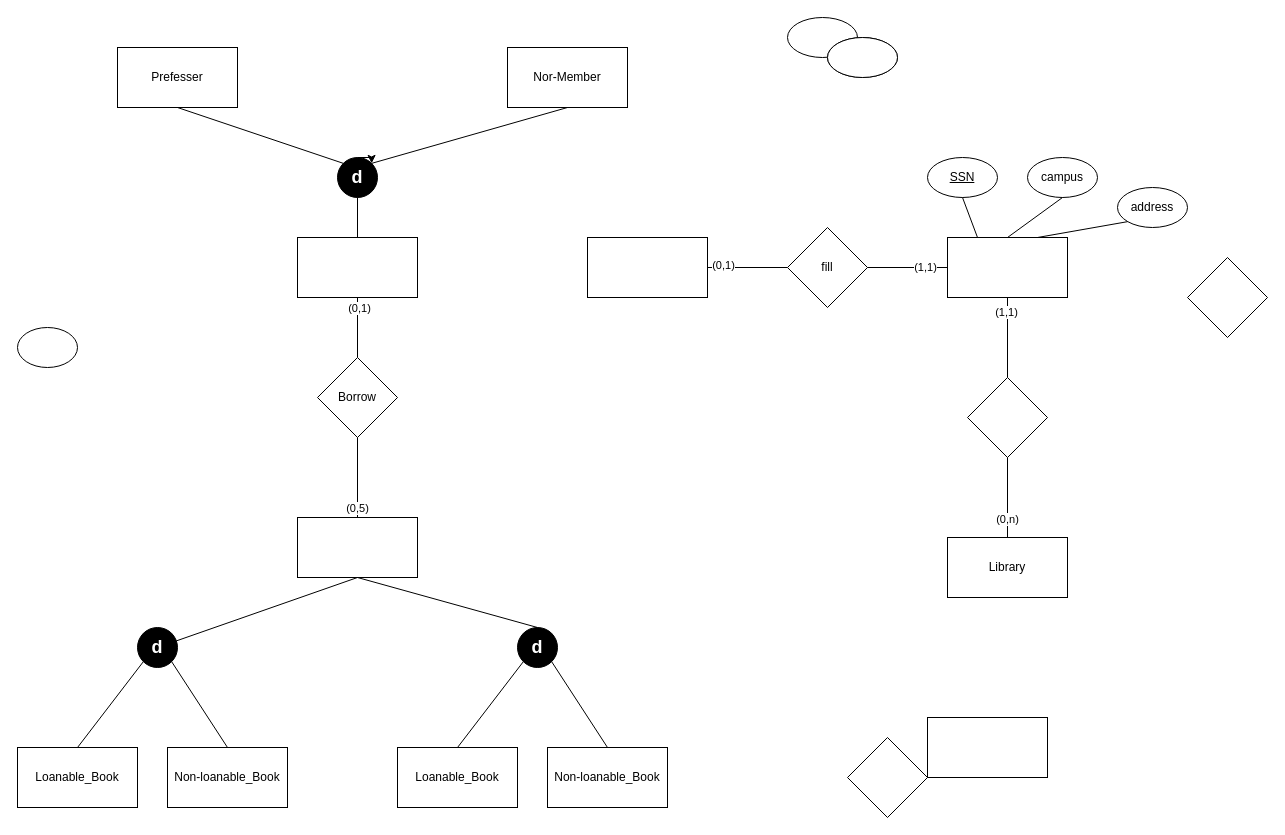
This 1285x835 diagram has some shape labels left out. Here are the shapes that lost their labels. From the top down, the centre of each, then its label:
(x=357, y=267): Member
(x=647, y=267): non-member
(x=1007, y=267): Member_apply_form
(x=1007, y=417): create
(x=357, y=547): Book
(x=987, y=747): Librrian
